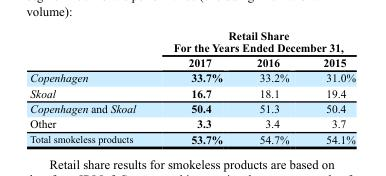table: (29, 28, 354, 145)
table column: (29, 28, 153, 145), (153, 28, 239, 145), (239, 28, 305, 145), (305, 28, 354, 145)
table column header: (29, 28, 354, 69)
table row: (29, 28, 354, 54), (29, 69, 354, 85), (29, 115, 354, 131), (29, 54, 354, 69), (29, 85, 354, 100), (29, 100, 354, 115), (29, 131, 354, 145)
table spanning cell: (153, 28, 354, 54)
